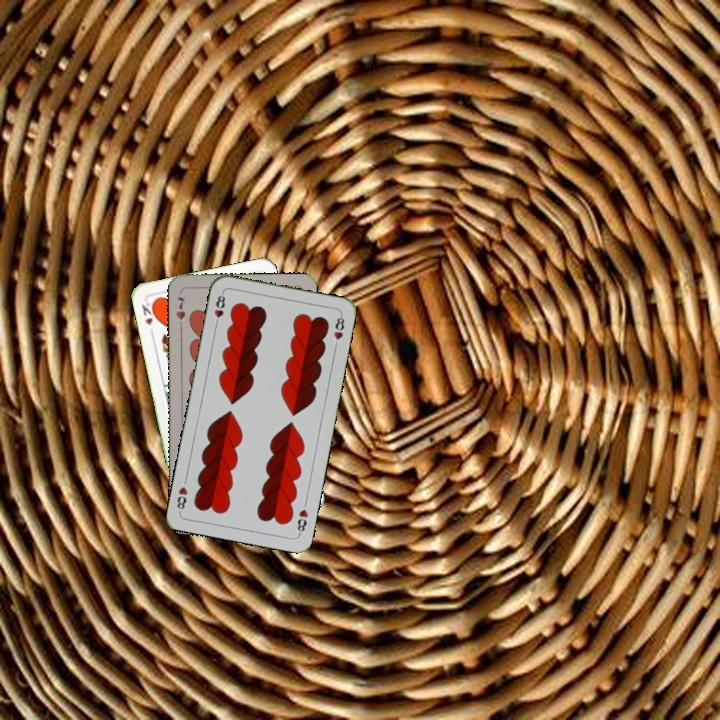H7: (172, 293, 188, 329)
H8: (210, 289, 228, 329), (293, 505, 311, 537)
HK: (138, 298, 159, 328)
